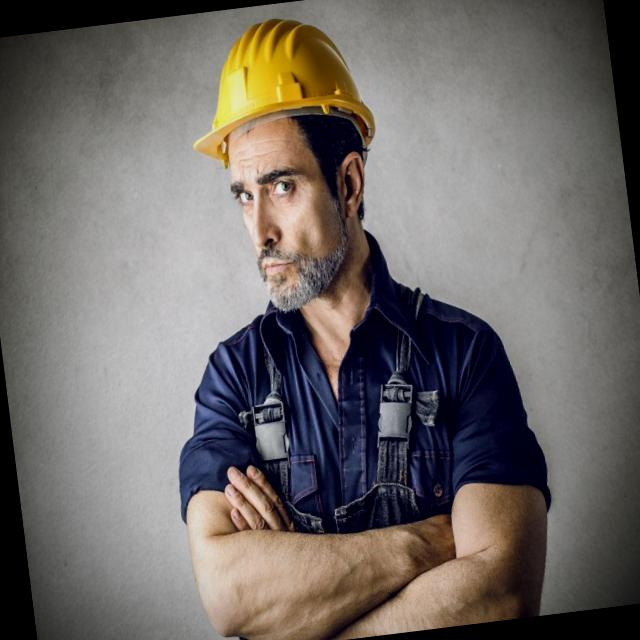helmet: (170, 0, 382, 171)
no-goggles: (218, 154, 346, 214)
no-vest: (170, 266, 552, 606)
